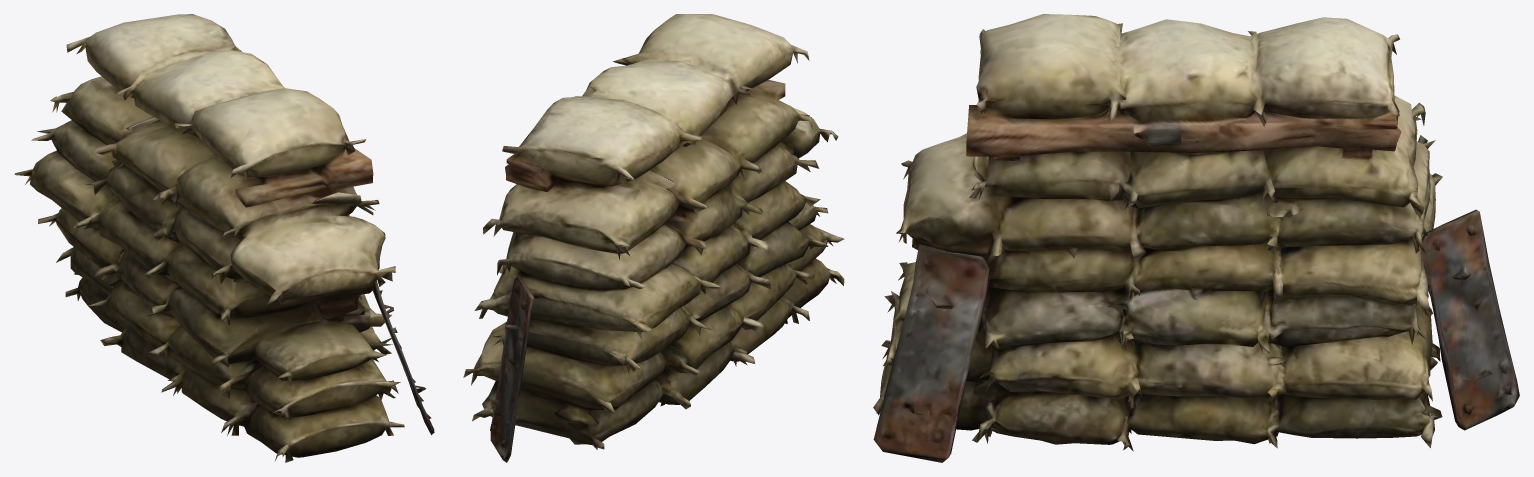
The model's file is p_barricade.glb.
The picture shows the model from 3 angles, left to right: view 1: azimuth 30°, elevation 25°; view 2: azimuth 150°, elevation 25°; view 3: azimuth 270°, elevation 25°; orthographic projection. The views are drawn at different scales.
Visible parts, largest first — view 1: tripo_node_155def20-664e-4969-bfb1-34b0d88382f7; view 2: tripo_node_155def20-664e-4969-bfb1-34b0d88382f7; view 3: tripo_node_155def20-664e-4969-bfb1-34b0d88382f7.
Part boxes in pixels (box(x1,y1,x2,y2)): tripo_node_155def20-664e-4969-bfb1-34b0d88382f7: box(14, 14, 434, 462); tripo_node_155def20-664e-4969-bfb1-34b0d88382f7: box(463, 14, 844, 462); tripo_node_155def20-664e-4969-bfb1-34b0d88382f7: box(873, 14, 1519, 462).
Bounding box in the file's own units: 0.4687 × 0.6298 × 1.
1 material, 1 textured.
